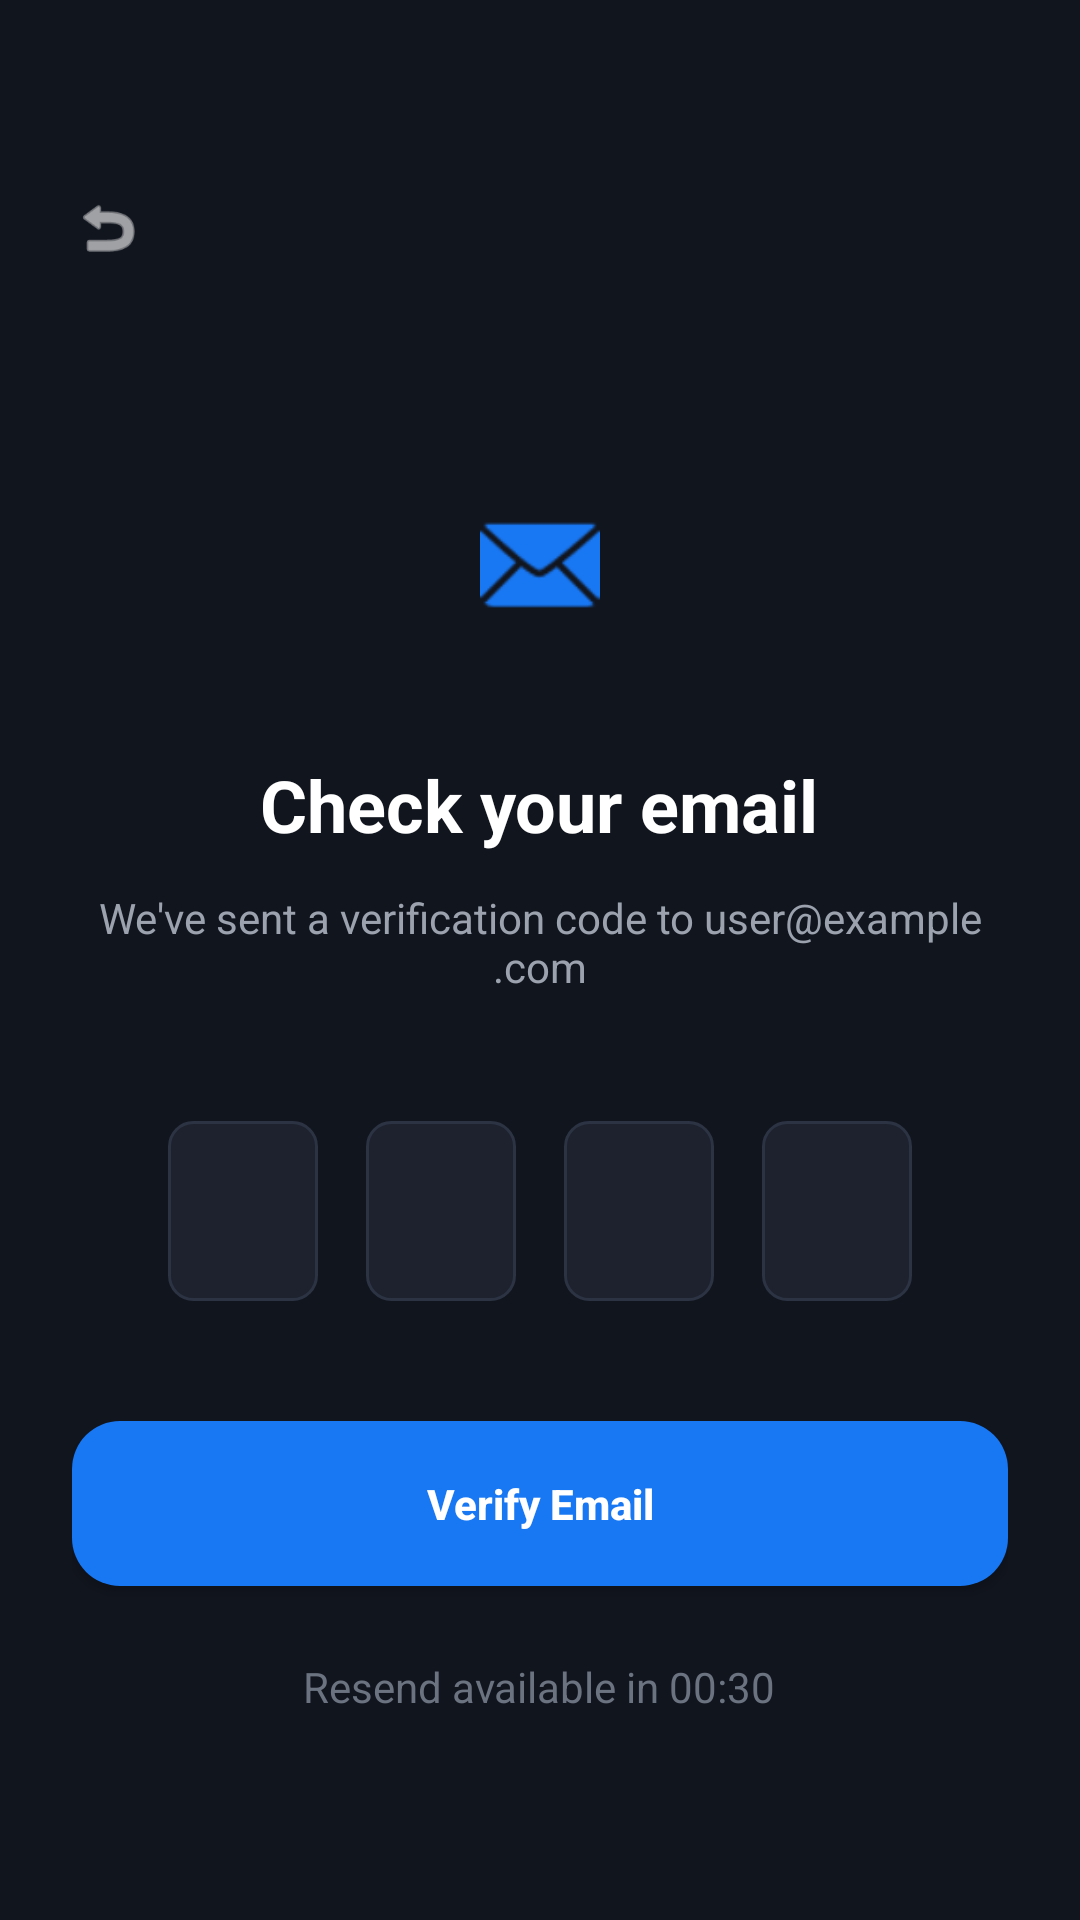

Screen size 1080px×1920px. Icon name, then its box in pixels as (x1, y1, x2, y2):
revert: (83, 205, 135, 252)
